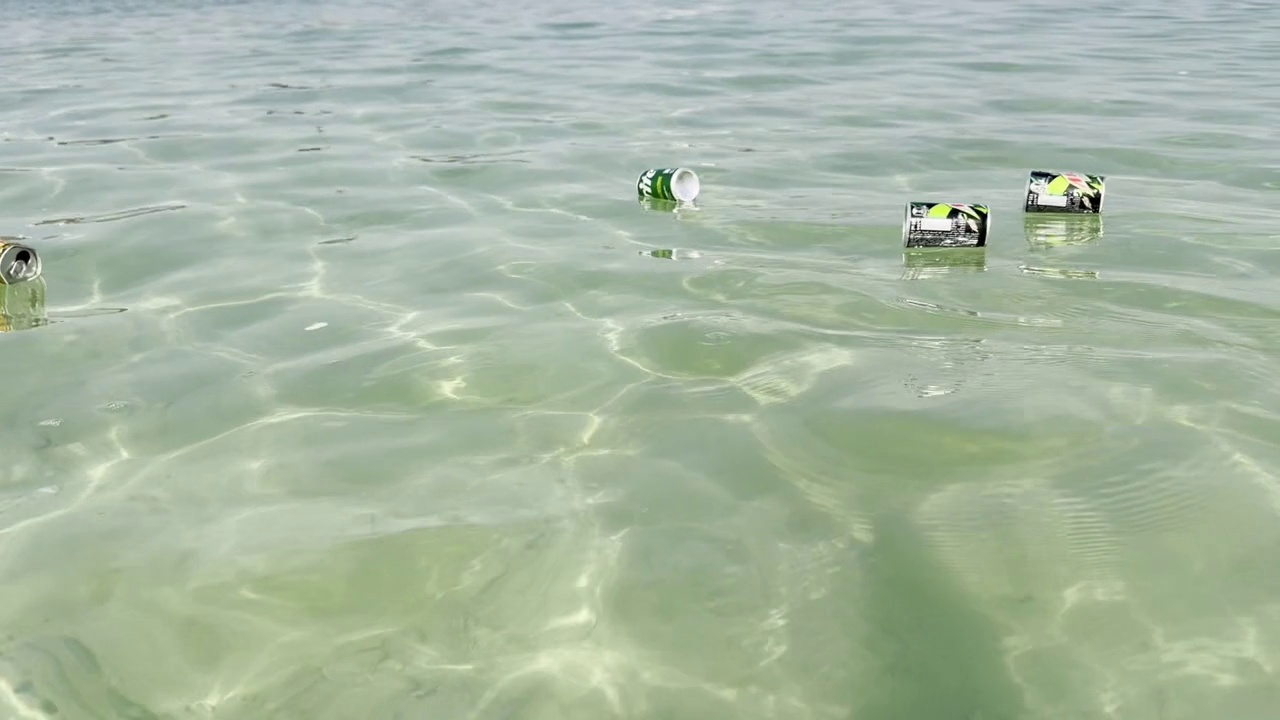debris: (896, 190, 997, 260), (1017, 167, 1111, 224), (630, 162, 711, 210), (0, 235, 38, 297)
